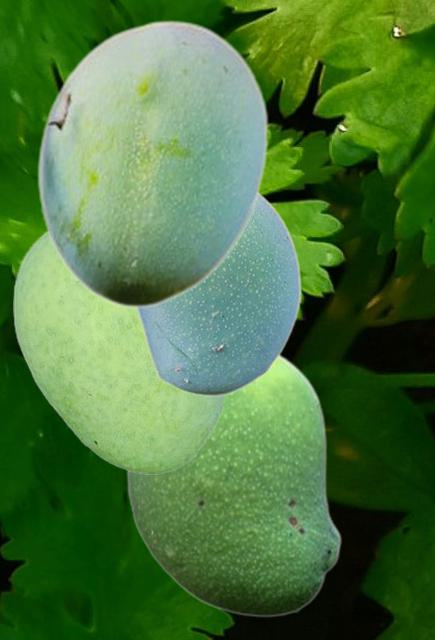green_mango: (36, 19, 268, 307), (126, 353, 341, 617), (13, 230, 224, 473), (133, 191, 301, 396)
